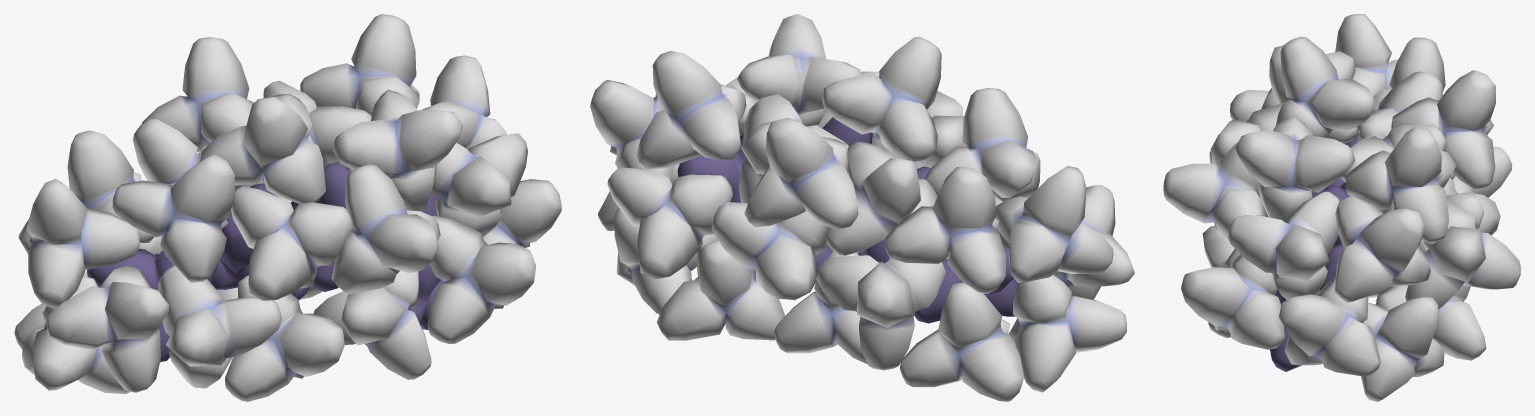
The model's file is beach_deco_tetrapods_01.fbx.
The picture shows the model from 3 angles, left to right: view 1: azimuth 30°, elevation 25°; view 2: azimuth 150°, elevation 25°; view 3: azimuth 270°, elevation 25°; orthographic projection. The views are drawn at different scales.
Visible parts, largest first — view 1: Plane.044; view 2: Plane.044; view 3: Plane.044.
Boxes of the visible parts, <box> form: Plane.044: <box>14,14,561,401</box>; Plane.044: <box>590,14,1134,401</box>; Plane.044: <box>1163,14,1520,401</box>.
Bounding box in the file's own units: 2291 × 1182 × 1520.
